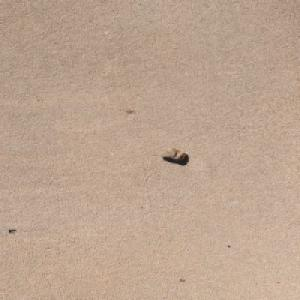Rock: (158, 147, 186, 160)
